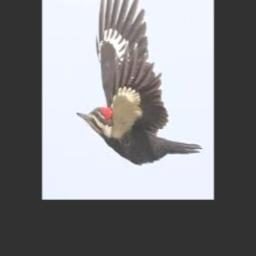Woodpecker: (76, 0, 202, 163)
